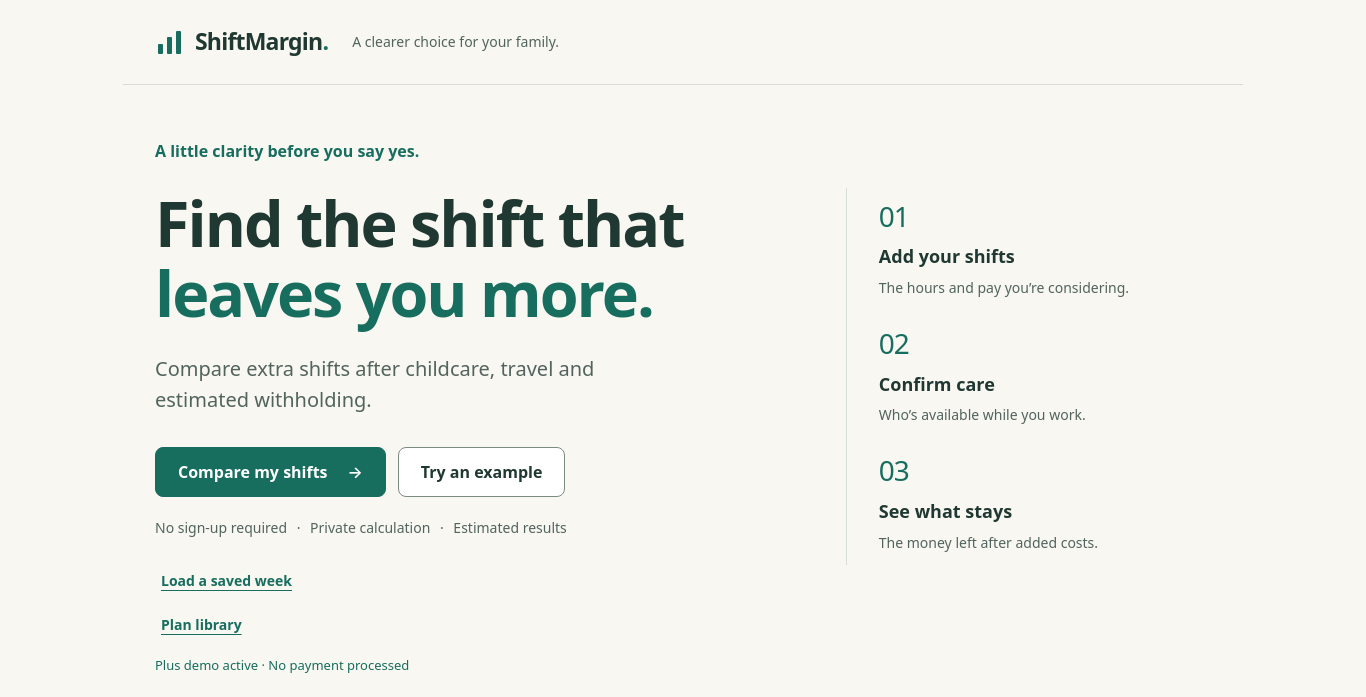
it: V2.3 saved-plan trust › does not interrupt opening when current inputs already match a saved snapshot
What coordinates should you click on to do the following:
click the button "Try an example"
I would click on:
 (482, 472)
Its box is [398,446,565,497].
(page scrolled)
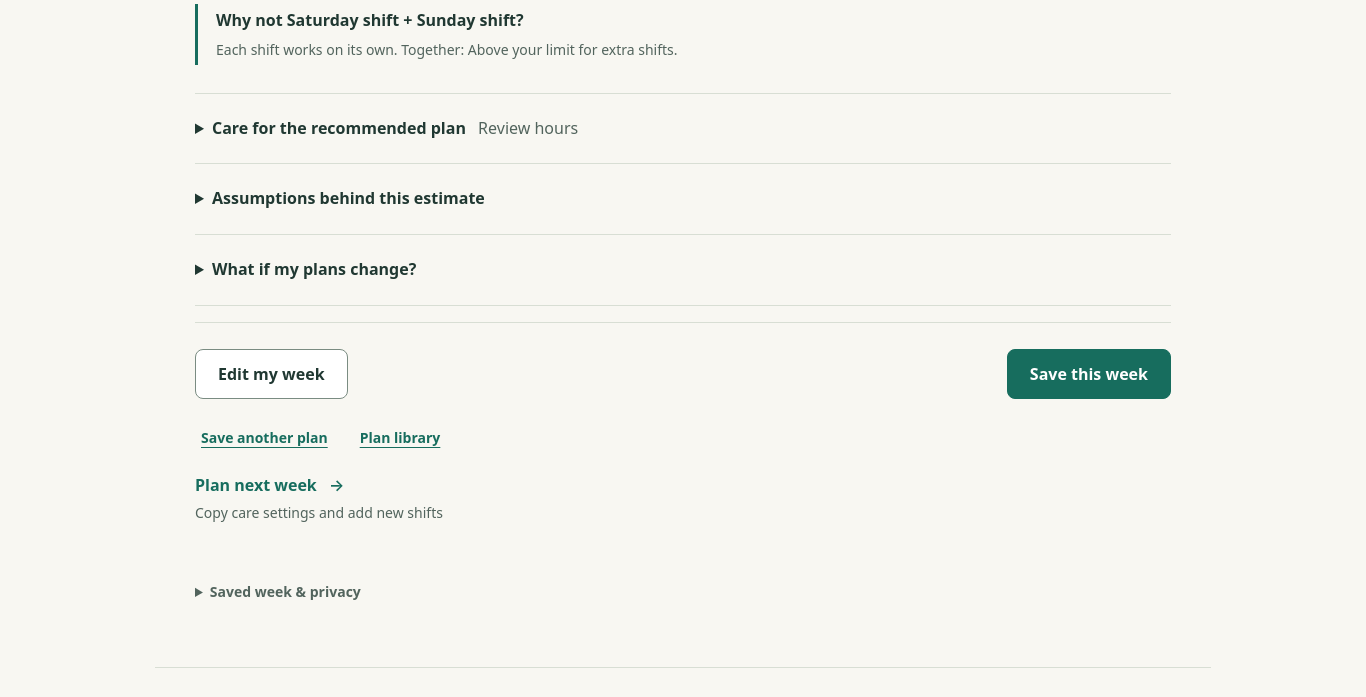
What coordinates should you click on to do the following:
click the button "Plan library"
I would click on:
 (400, 437)
Its box is [354,415,446,459].
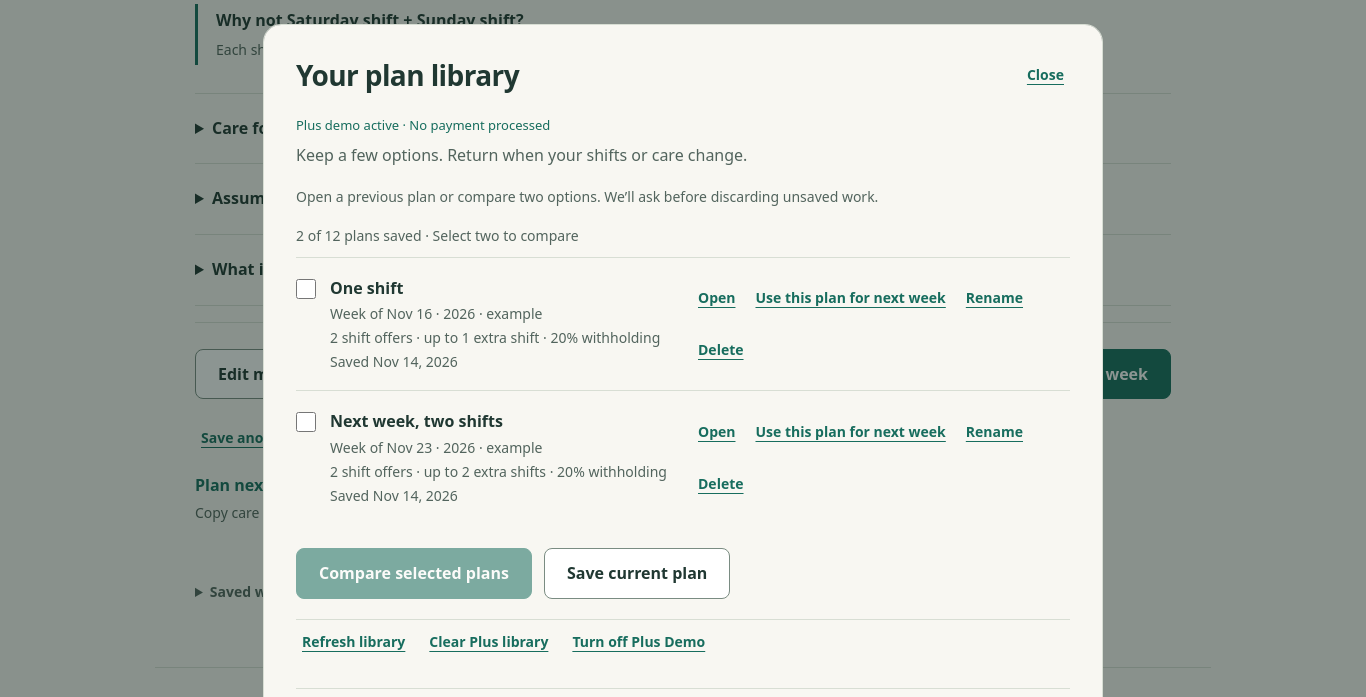
What coordinates should you click on to do the following:
click the button with aria-label "Open Next week, two shifts"
I would click on:
 (717, 432)
Its box is [692,410,742,454].
(page scrolled)
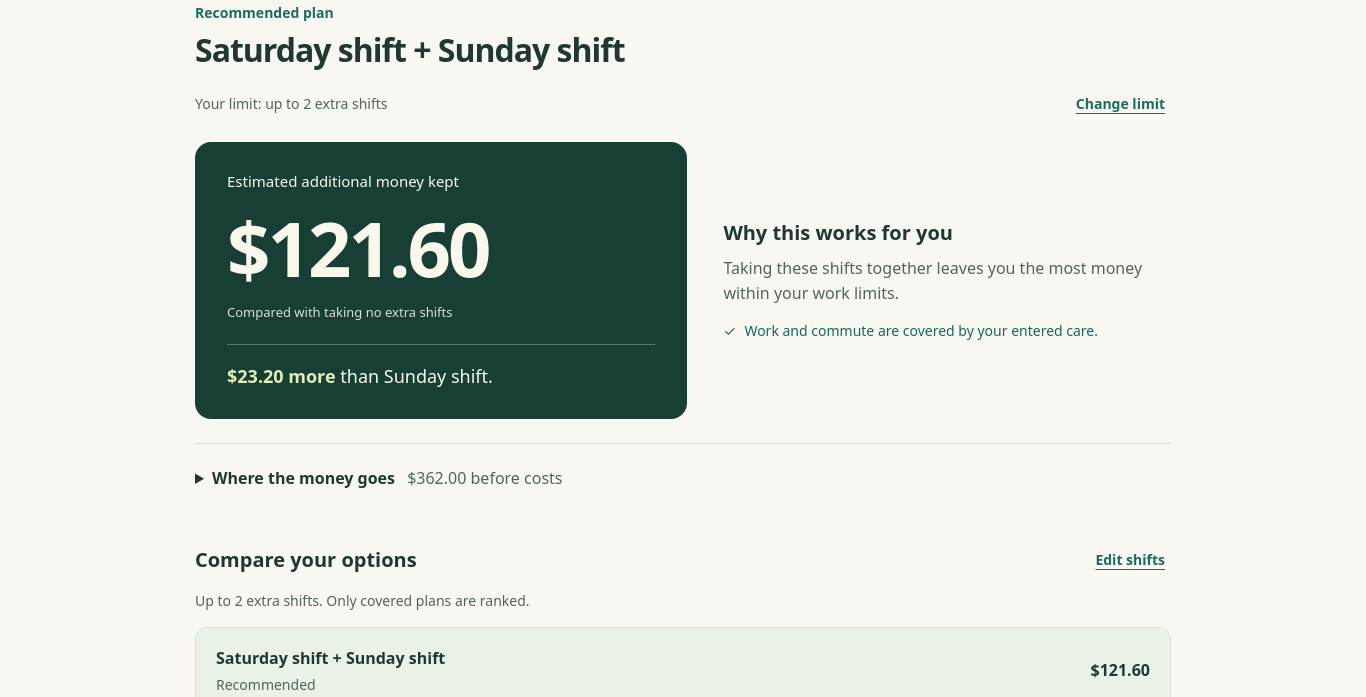
Check: the text with test id "net-gain" reads "$121.60", box [227,196,488,299]
